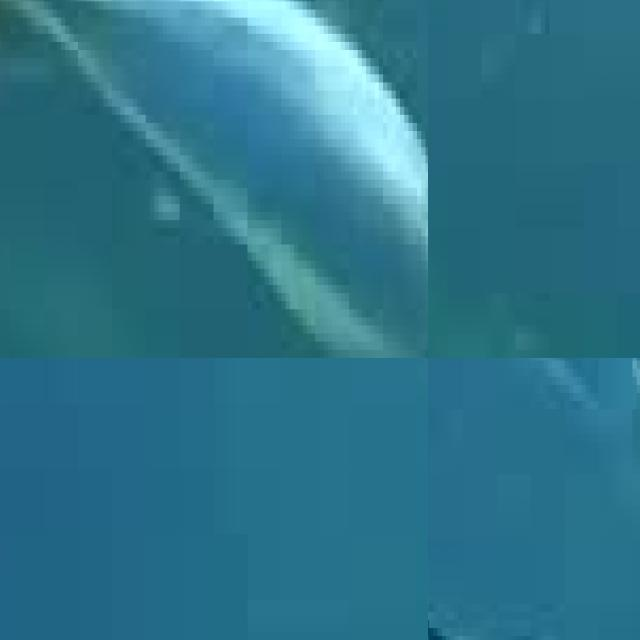fish: (0, 0, 428, 358)
